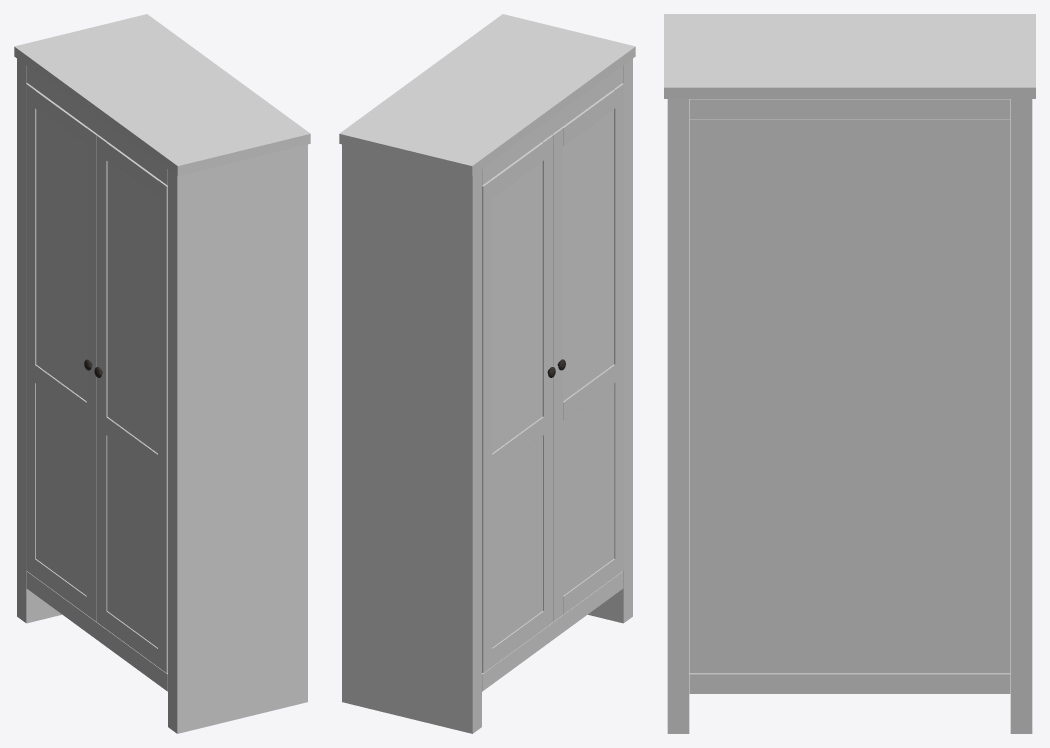
File: cabinet.fbx
3 views of the same model, side by side, from view 1: azimuth 30°, elevation 25°; view 2: azimuth 150°, elevation 25°; view 3: azimuth 270°, elevation 25° (orthographic). The views are drawn at different scales.
Parts seen in each view (by area): view 1: Cube.004, Cube.006, Cube.018, Cube.020, Cube.019, Cube.013, Cube.014, Cube.012, Cube.003, Cube.002, Cube.005; view 2: Cube.003, Cube.006, Cube.020, Cube.018, Cube.013, Cube.019, Cube.012, Cube.014, Cube.004, Cube.002, Cube.005; view 3: Cube.007, Cube.006, Cube.004, Cube.003, Cube.002, Cube.005.
Part boxes in pixels (x1=…): Cube.004: x1=168, y1=144, x2=307, y2=733; Cube.006: x1=14, y1=14, x2=310, y2=175; Cube.018: x1=96, y1=135, x2=167, y2=673; Cube.020: x1=26, y1=83, x2=97, y2=621; Cube.019: x1=107, y1=162, x2=157, y2=453; Cube.013: x1=36, y1=109, x2=86, y2=400; Cube.014: x1=107, y1=416, x2=157, y2=647; Cube.012: x1=35, y1=364, x2=86, y2=595; Cube.003: x1=17, y1=59, x2=61, y2=623; Cube.002: x1=26, y1=571, x2=167, y2=691; Cube.005: x1=26, y1=66, x2=167, y2=185; Cube.003: x1=342, y1=144, x2=481, y2=733; Cube.006: x1=339, y1=14, x2=635, y2=175; Cube.020: x1=482, y1=135, x2=553, y2=672; Cube.018: x1=552, y1=83, x2=623, y2=621; Cube.013: x1=492, y1=161, x2=542, y2=452; Cube.019: x1=563, y1=109, x2=613, y2=400; Cube.012: x1=482, y1=187, x2=543, y2=671; Cube.014: x1=563, y1=364, x2=614, y2=595; Cube.004: x1=588, y1=59, x2=632, y2=623; Cube.002: x1=482, y1=571, x2=623, y2=691; Cube.005: x1=482, y1=66, x2=623, y2=185; Cube.007: x1=689, y1=119, x2=1010, y2=673; Cube.006: x1=664, y1=14, x2=1035, y2=98; Cube.004: x1=667, y1=99, x2=689, y2=733; Cube.003: x1=1010, y1=99, x2=1032, y2=733; Cube.002: x1=689, y1=673, x2=1010, y2=693; Cube.005: x1=689, y1=99, x2=1010, y2=118.
Size of the model in its own units: 50.89 by 200 by 104.
3 materials, 1 textured.
